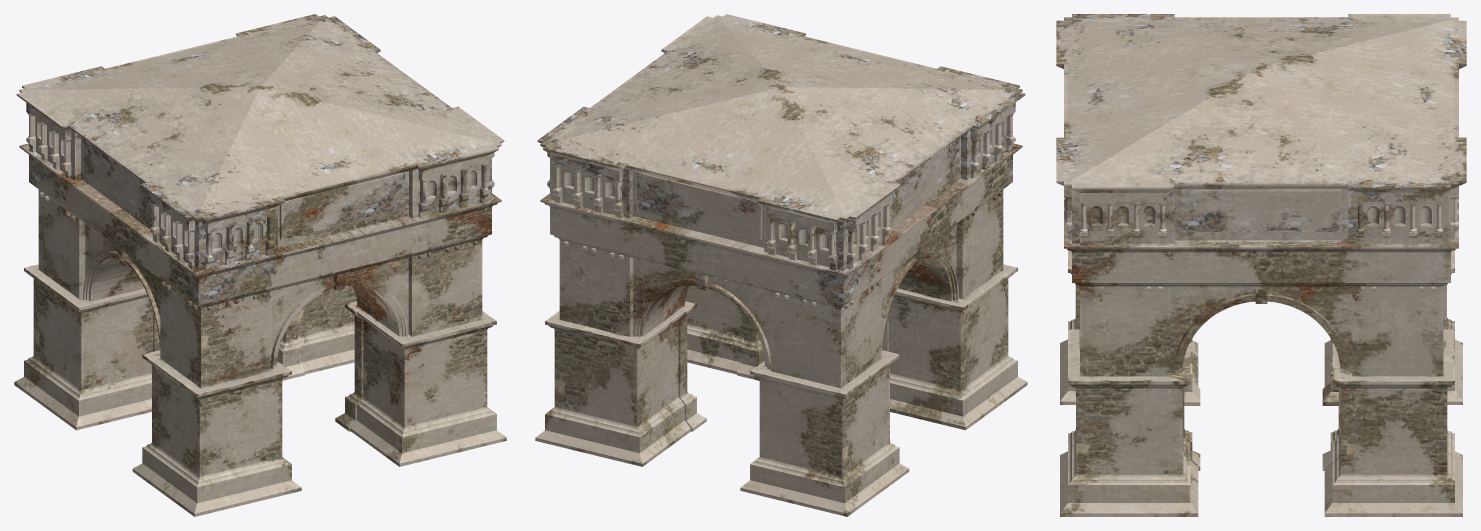
The model's file is heidentor_rebuilt.obj.
The picture shows the model from 3 angles, left to right: view 1: azimuth 30°, elevation 25°; view 2: azimuth 150°, elevation 25°; view 3: azimuth 270°, elevation 25°; orthographic projection. The views are drawn at different scales.
Parts seen in each view (by area): view 1: heidentor_rebuilt; view 2: heidentor_rebuilt; view 3: heidentor_rebuilt.
Part boxes in pixels (bbox=[...]): heidentor_rebuilt: bbox=[14, 14, 506, 516]; heidentor_rebuilt: bbox=[535, 14, 1027, 516]; heidentor_rebuilt: bbox=[1056, 14, 1466, 516].
Size of the model in its own units: 1.04 by 1.02 by 1.04.
1 material, 1 textured.
